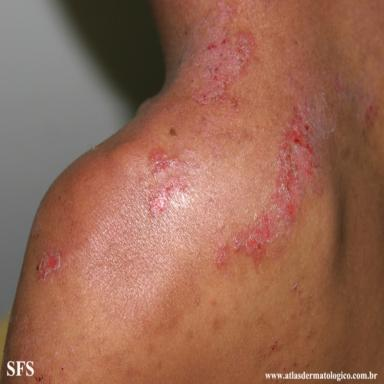Hailey-Hailey-Disease: (214, 99, 321, 268), (191, 31, 255, 104), (149, 177, 187, 213), (36, 247, 63, 284), (150, 152, 178, 177)
